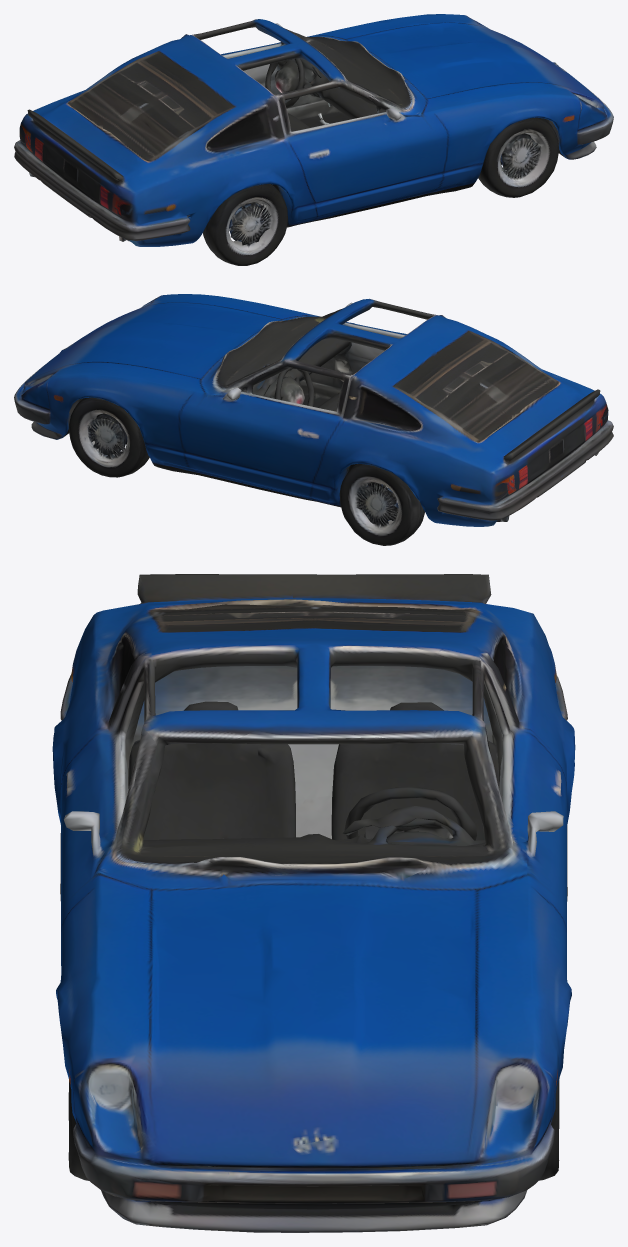
File: model_pbr.glb
The picture shows the model from 3 angles, top to bottom: view 1: azimuth 30°, elevation 25°; view 2: azimuth 150°, elevation 25°; view 3: azimuth 270°, elevation 25°; orthographic projection. The views are drawn at different scales.
Visible parts, largest first — view 1: tripo_node_077be6ad-f452-42d1-9943-9e1932a7ffe7; view 2: tripo_node_077be6ad-f452-42d1-9943-9e1932a7ffe7; view 3: tripo_node_077be6ad-f452-42d1-9943-9e1932a7ffe7.
Boxes of the visible parts, box(x1,y1,x2,y2) form: tripo_node_077be6ad-f452-42d1-9943-9e1932a7ffe7: box(14, 14, 613, 265); tripo_node_077be6ad-f452-42d1-9943-9e1932a7ffe7: box(14, 294, 613, 545); tripo_node_077be6ad-f452-42d1-9943-9e1932a7ffe7: box(52, 574, 575, 1232).
Bounding box in the file's own units: 1 × 0.2827 × 0.4448.
Materials: 1 (1 with a texture image).
